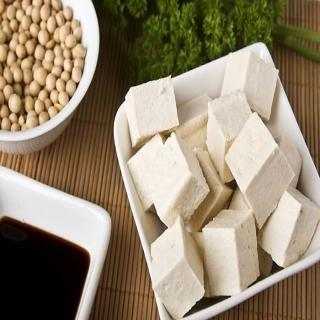Tahu: (115, 41, 320, 318)
